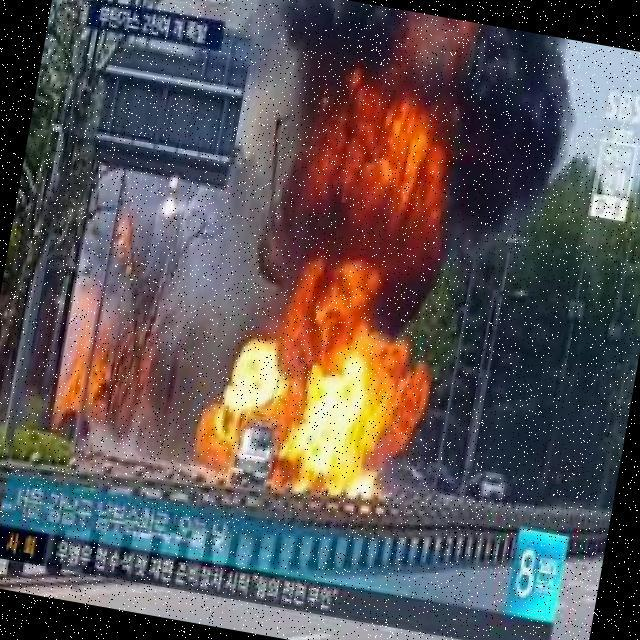Fire: (210, 302, 424, 512)
